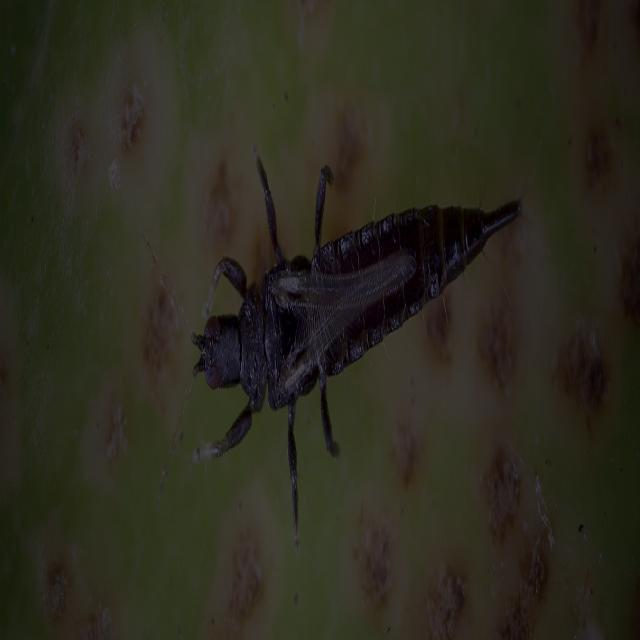Thrip-Adult-: (163, 123, 536, 497)
